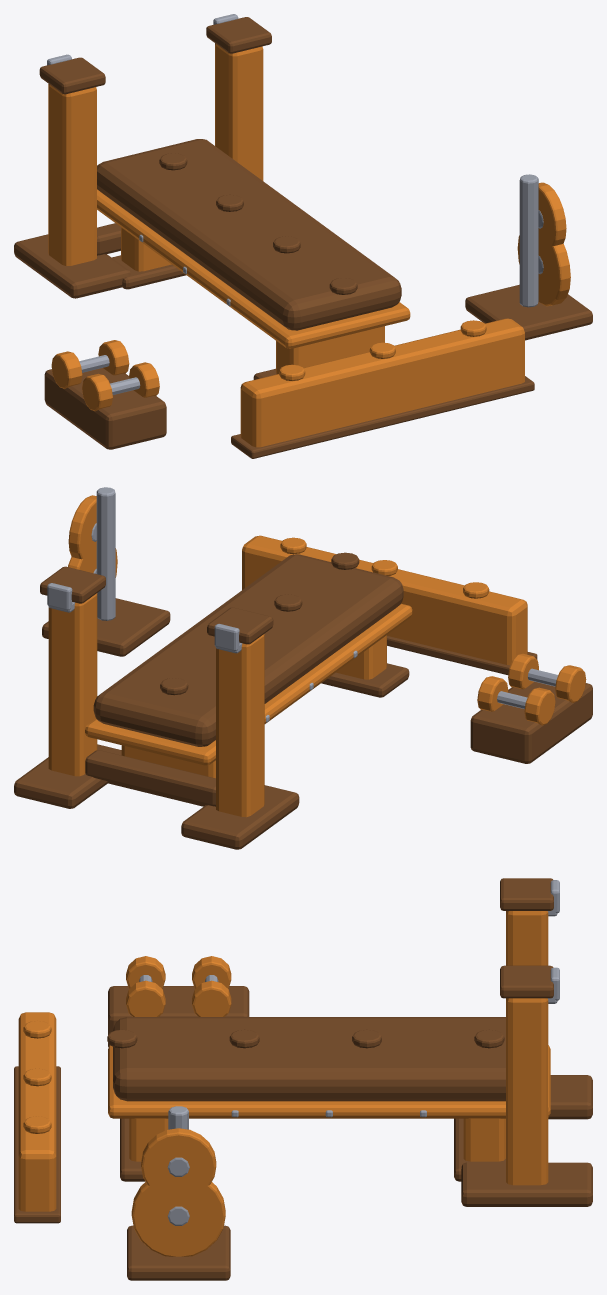
File: Bench_Bois.fbx
3 renders of one model, top to bottom at view 1: azimuth 30°, elevation 25°; view 2: azimuth 150°, elevation 25°; view 3: azimuth 270°, elevation 25°, orthographic. The views are drawn at different scales.
Visible parts, largest first — view 1: Main, Dark, Metal; view 2: Dark, Main, Metal; view 3: Dark, Main, Metal.
Boxes of the visible parts, x1,y1,x2,y2 form: Main: (48, 43, 570, 447); Dark: (14, 17, 592, 458); Metal: (47, 14, 543, 394); Dark: (14, 552, 592, 849); Main: (48, 495, 586, 817); Metal: (47, 487, 558, 722); Dark: (14, 878, 592, 1280); Main: (18, 911, 550, 1256); Metal: (139, 880, 559, 1225).
Bounding box in the file's own units: 13.11 × 5.18 × 12.3.
